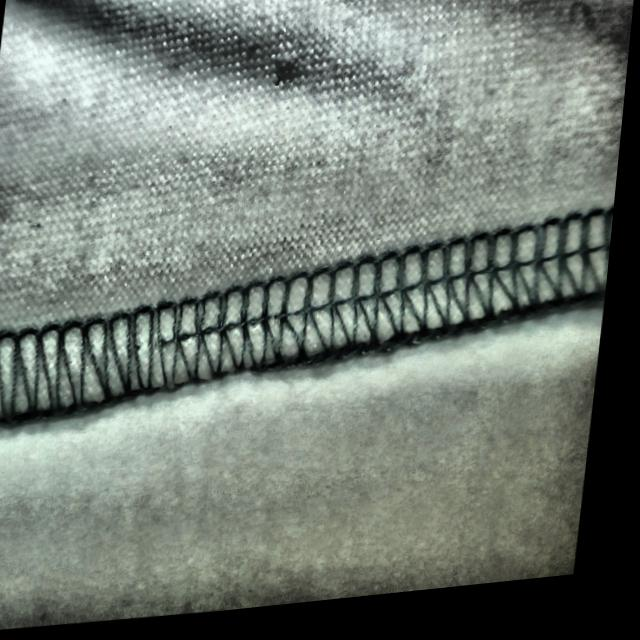Stitch: (0, 249, 410, 438)
